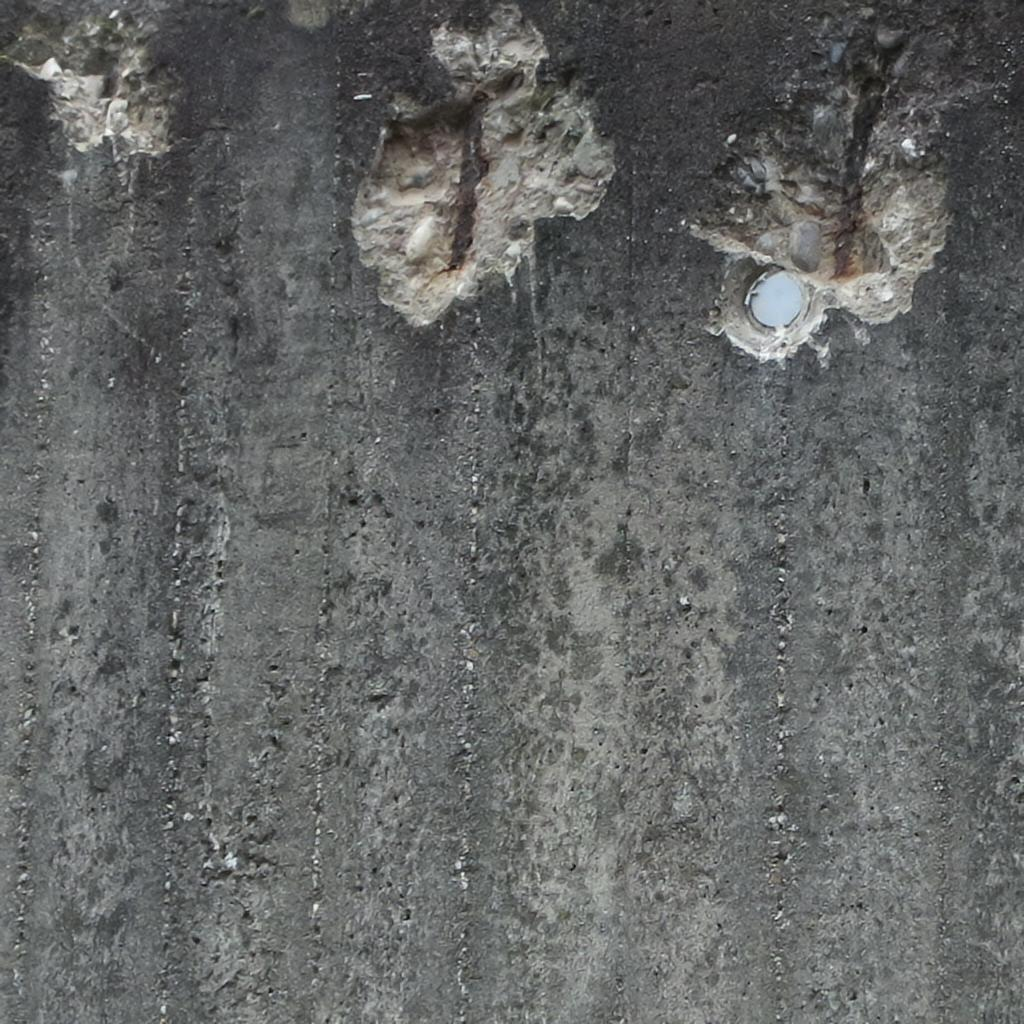exposed_rebar: (834, 78, 884, 275), (448, 100, 488, 269)
spalling: (690, 10, 974, 360), (352, 6, 614, 325)
